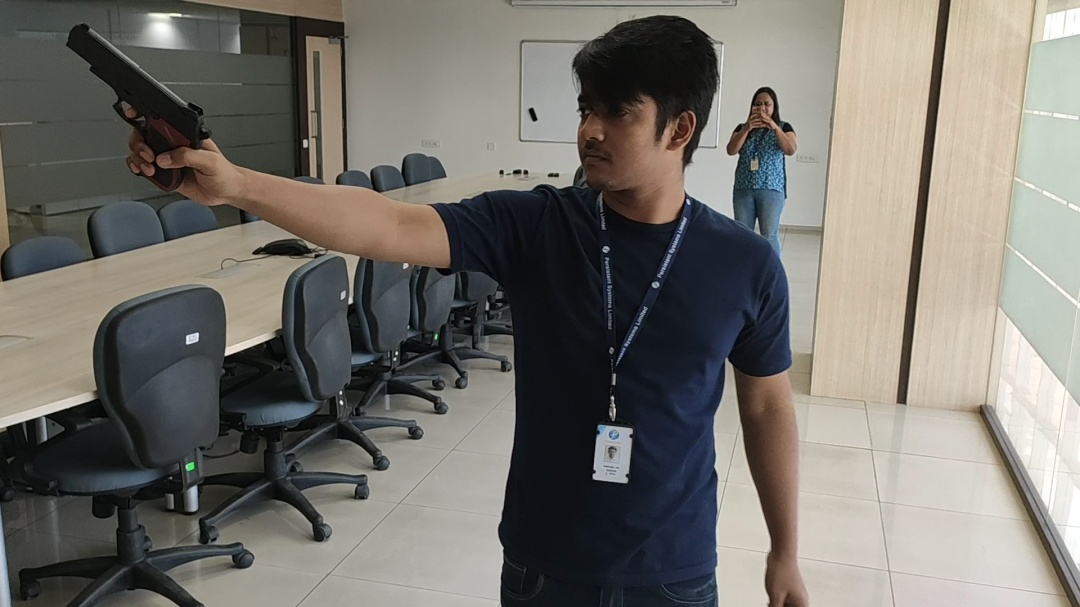gun: (58, 22, 212, 139)
